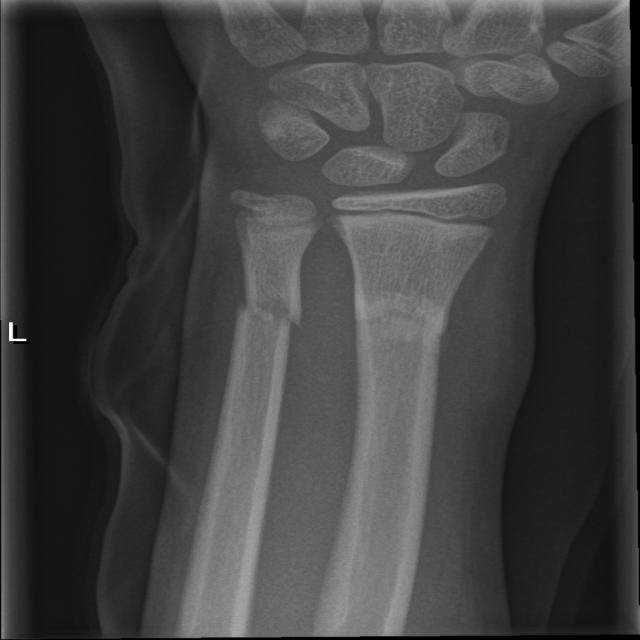radius fracture: (322, 245, 492, 405)
ulna fracture: (216, 254, 316, 416)
